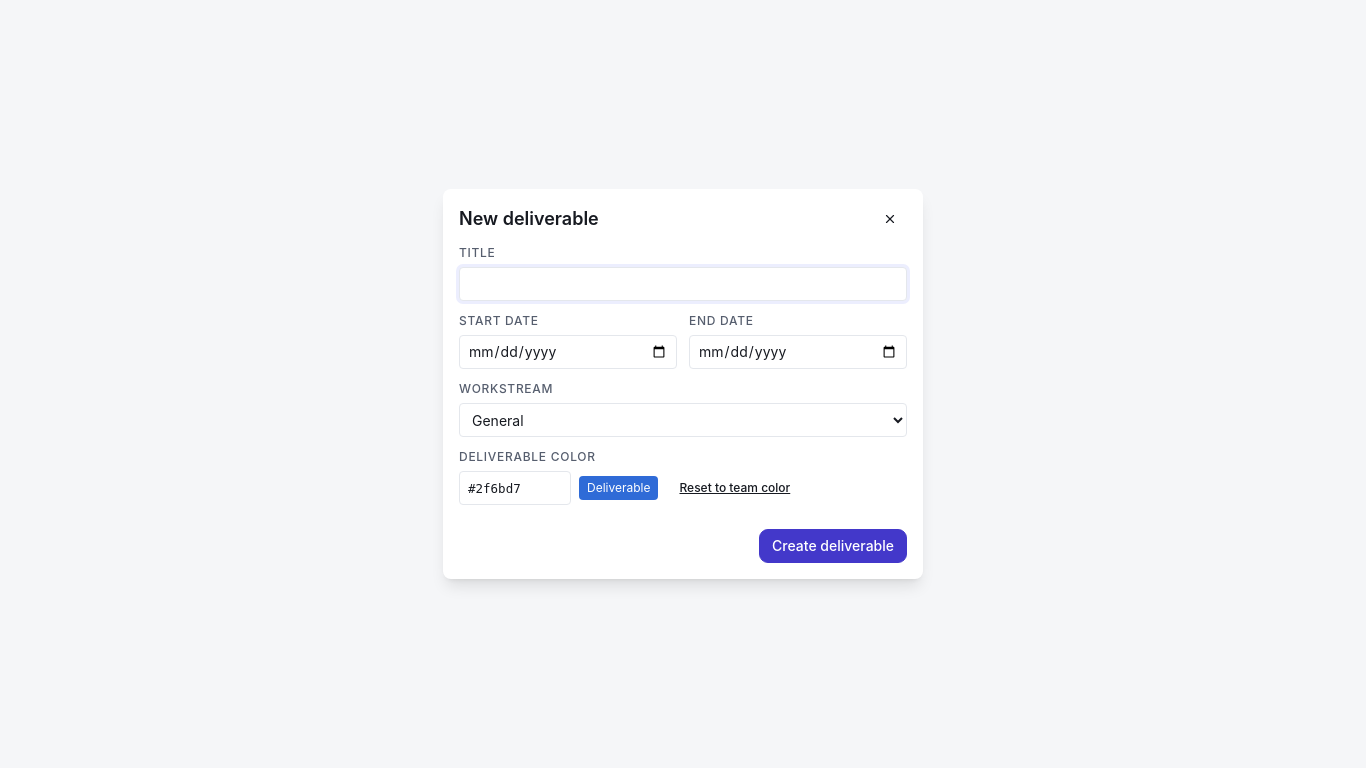
REQ_FE_028/029 create-deliverable dialog › REQ_FE_062 dates that would push the roadmap past the 3-year cap are blocked before the request is sent
Type "New thing" into the field labelled "Title" at (683, 284), box 459,267 -> 907,301
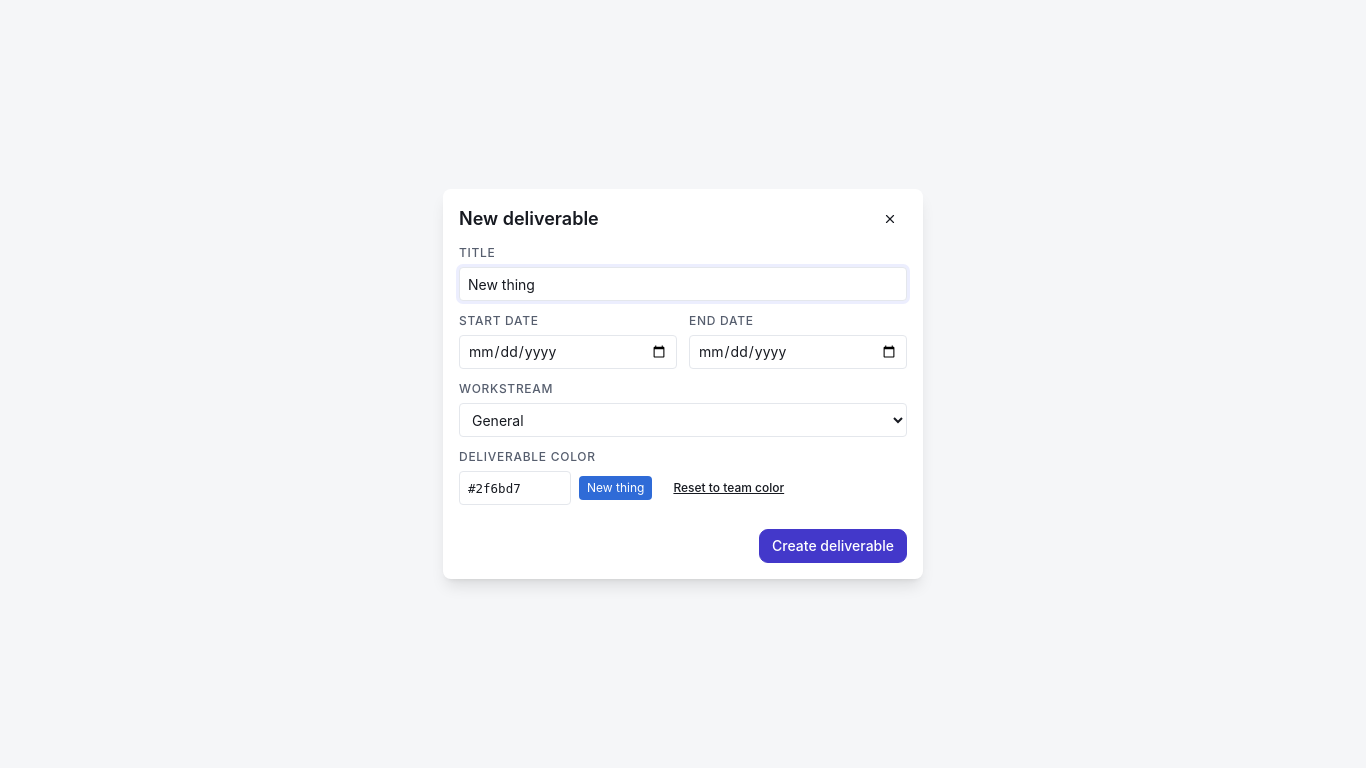
Type "2026-01-01" into the date field labelled "Start date" at (568, 352), box 459,335 -> 677,369
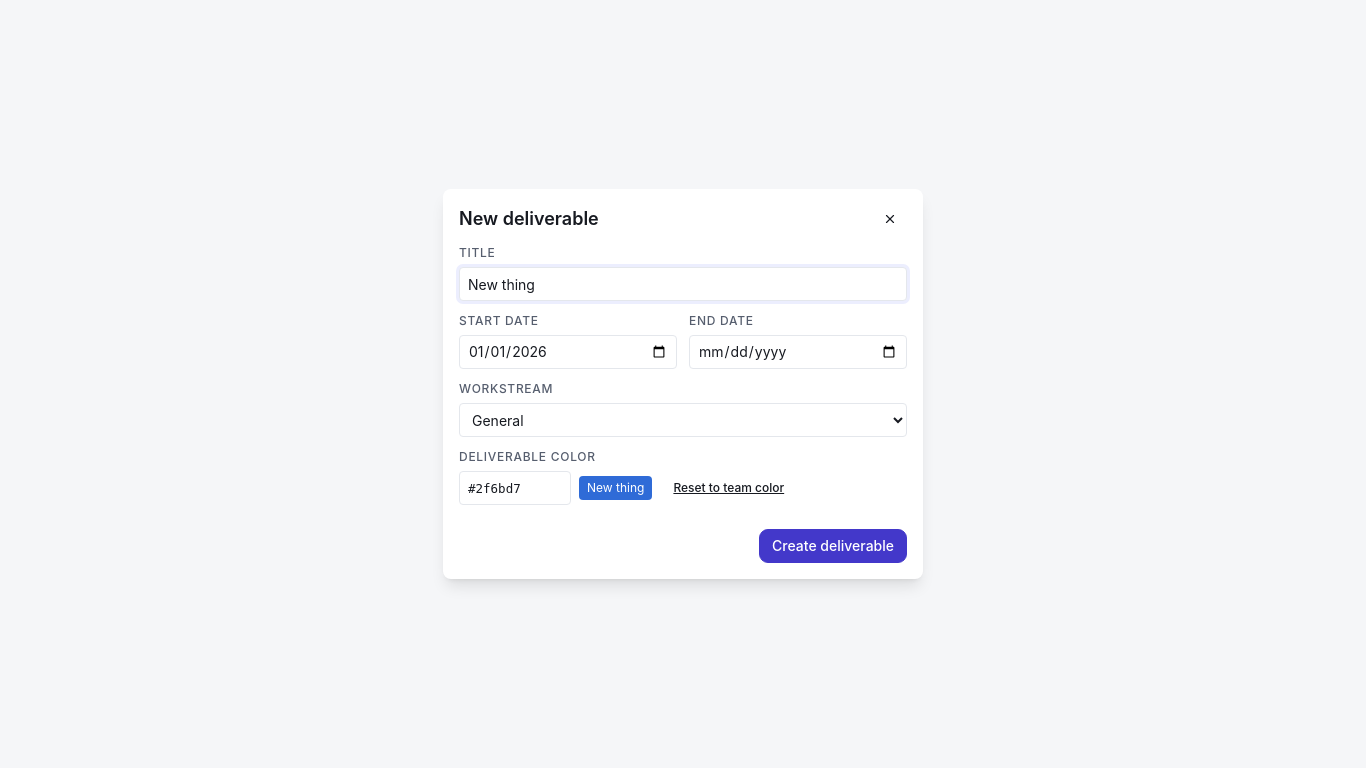
Type "2030-01-01" into the date field labelled "End date" at (798, 352), box 689,335 -> 907,369
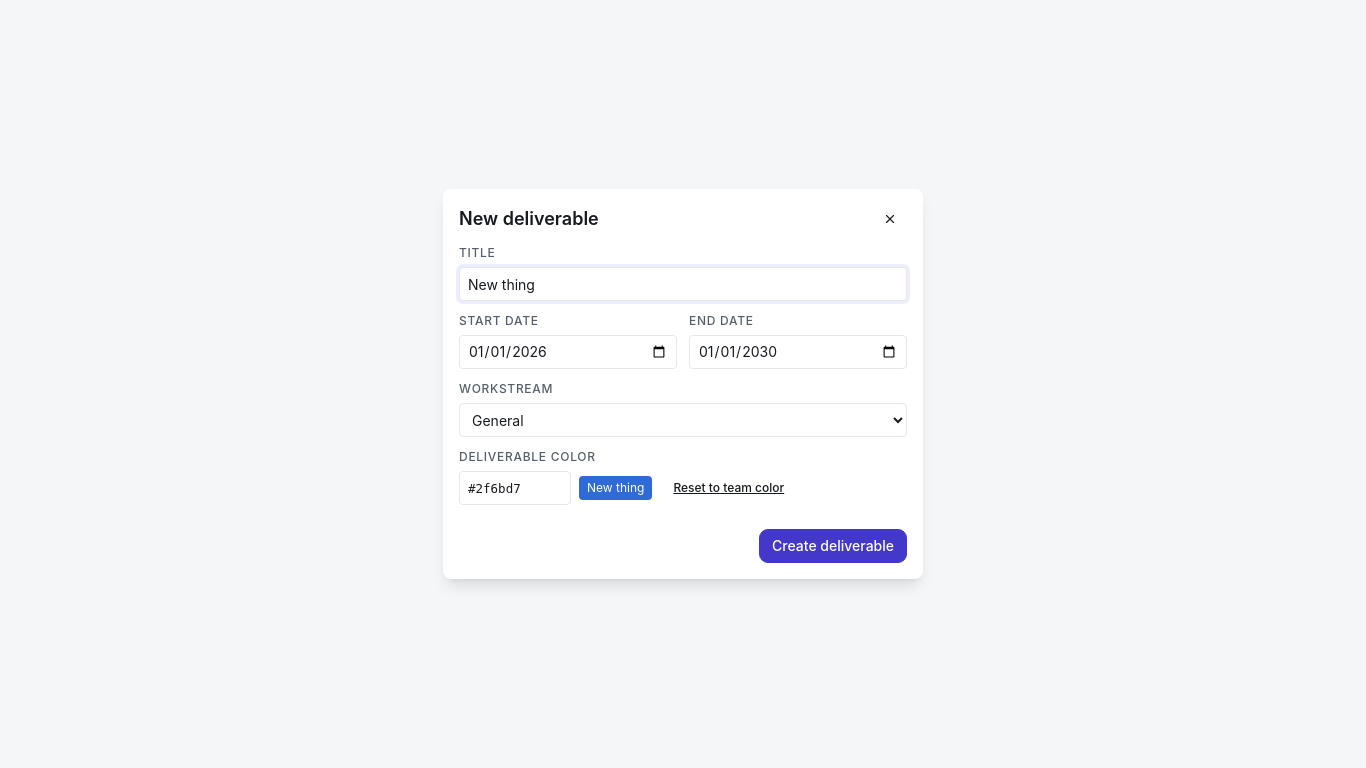
Click the button "Create deliverable" at (833, 546), box 759,529 -> 907,563
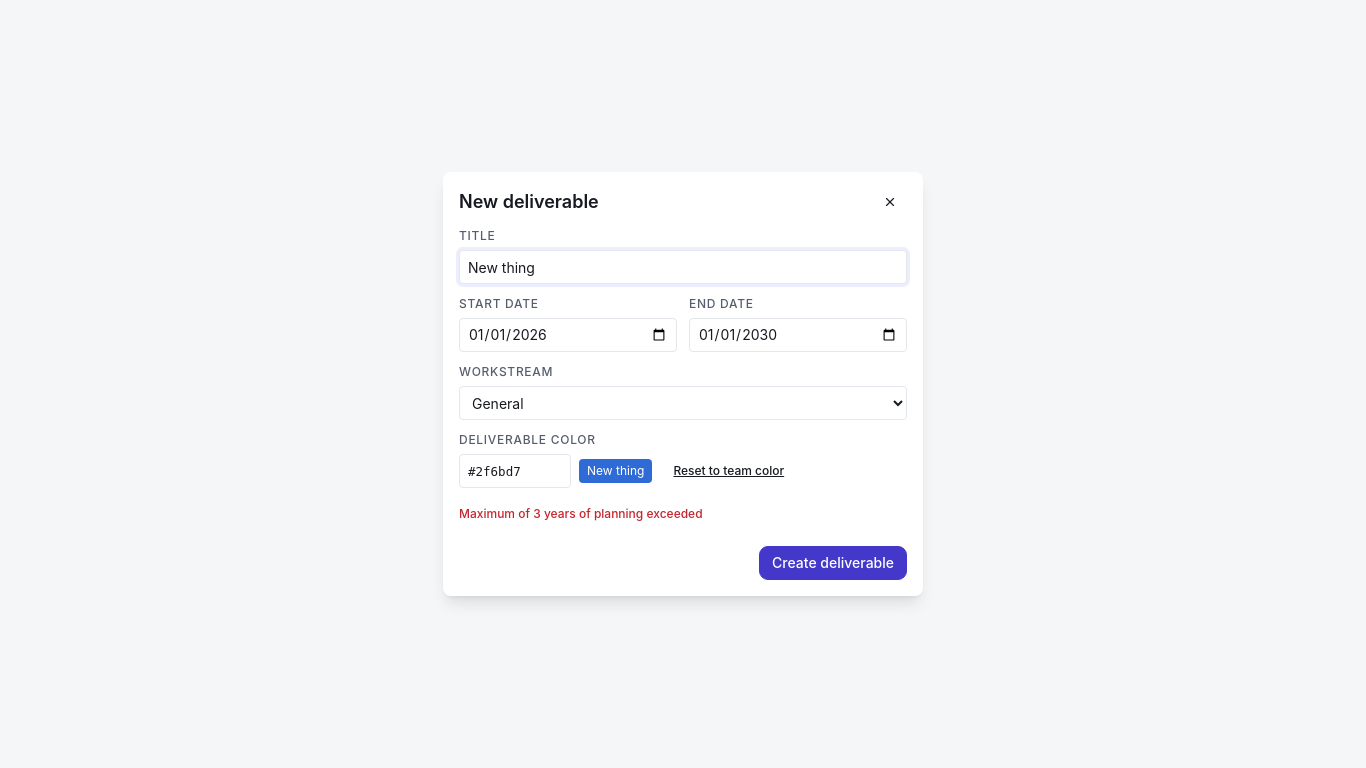
Result: the message reads "Maximum of 3 years of planning exceeded" at 459,506 -> 703,521
